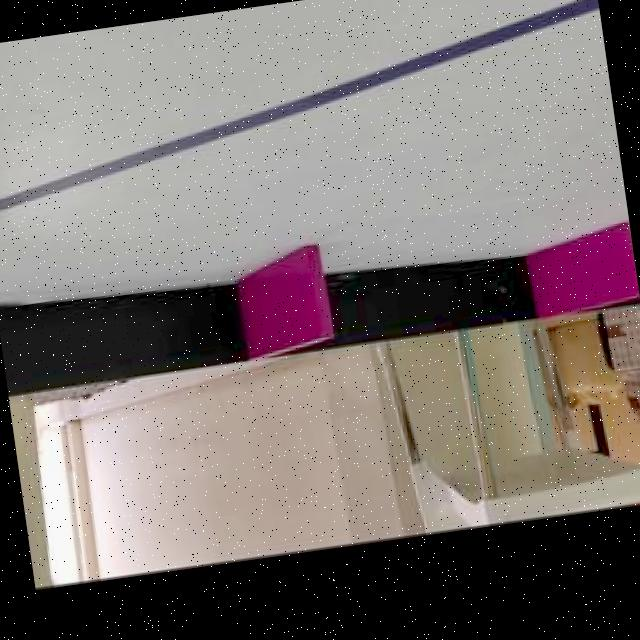xparking: (530, 232, 636, 311), (242, 254, 328, 348)
